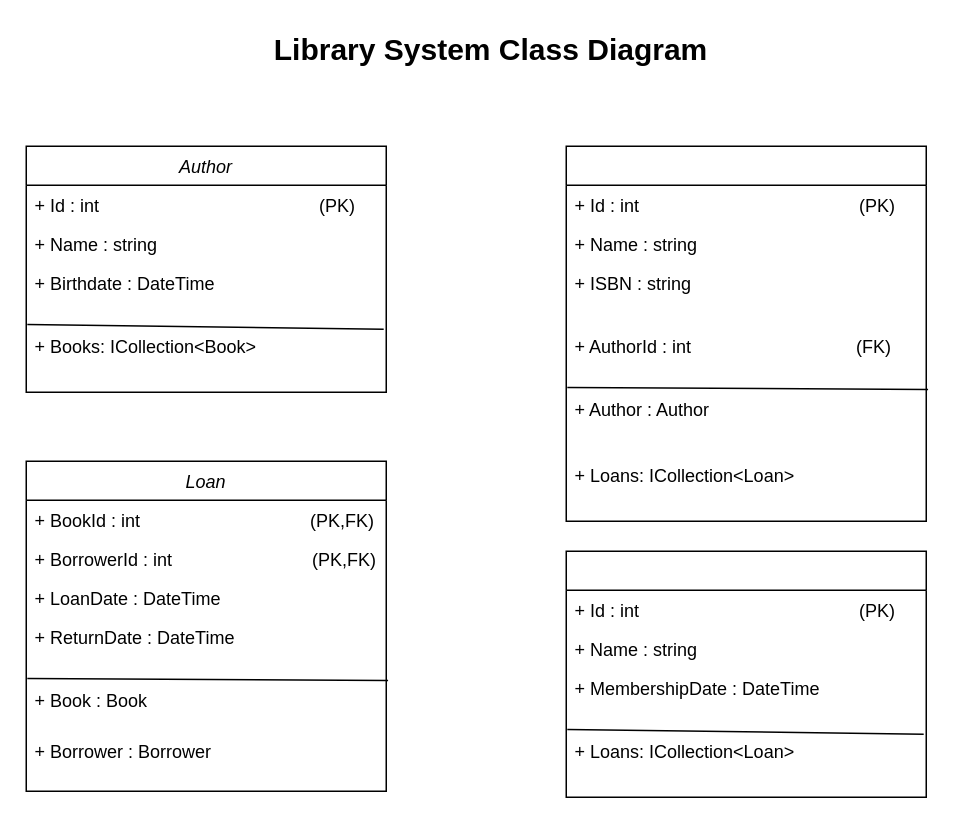
Image size: 957x827. Some labels were removed from this diagram. Each missing label, with the box of its shape:
Book: (565, 145, 926, 521)
Borrower: (565, 550, 926, 797)
